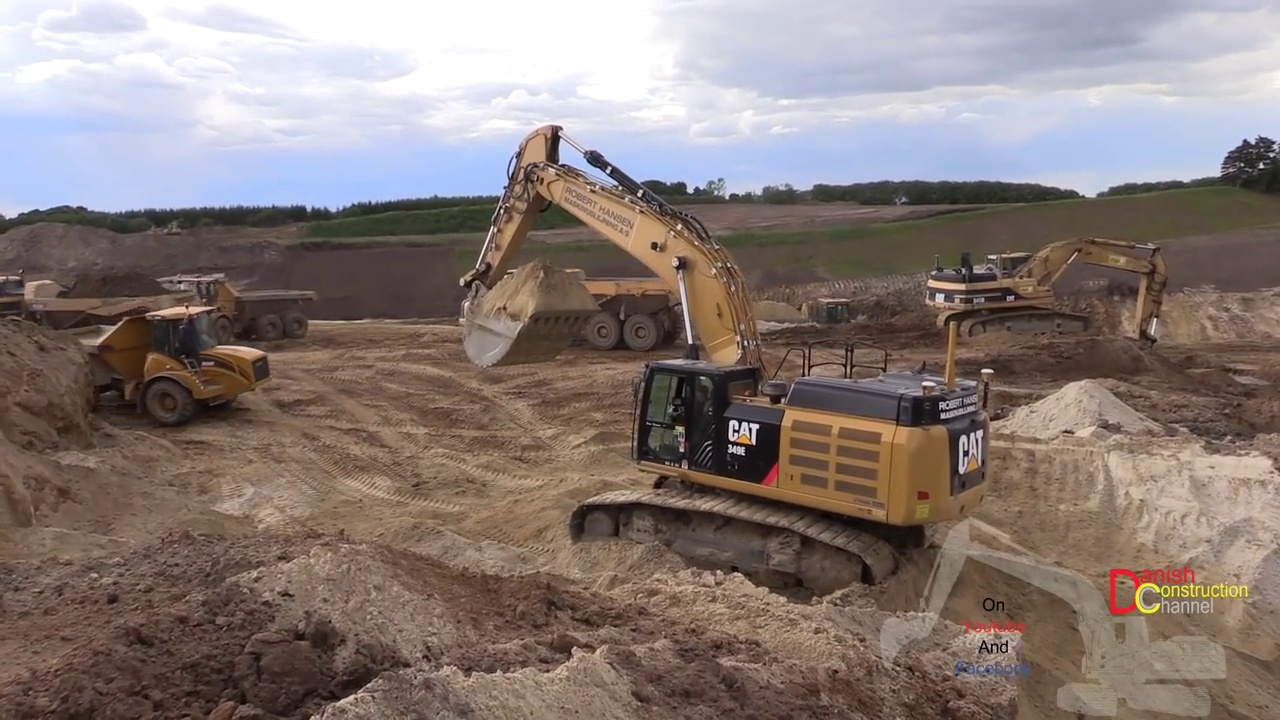dumper: (63, 305, 272, 423), (461, 265, 693, 353), (194, 269, 317, 345)
excavator: (462, 126, 986, 597), (925, 235, 1172, 371)
